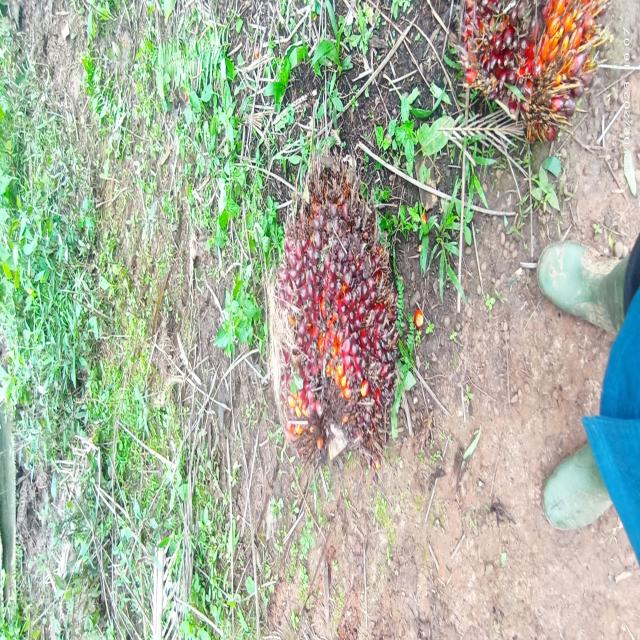fraksi 3: (248, 86, 412, 514)
